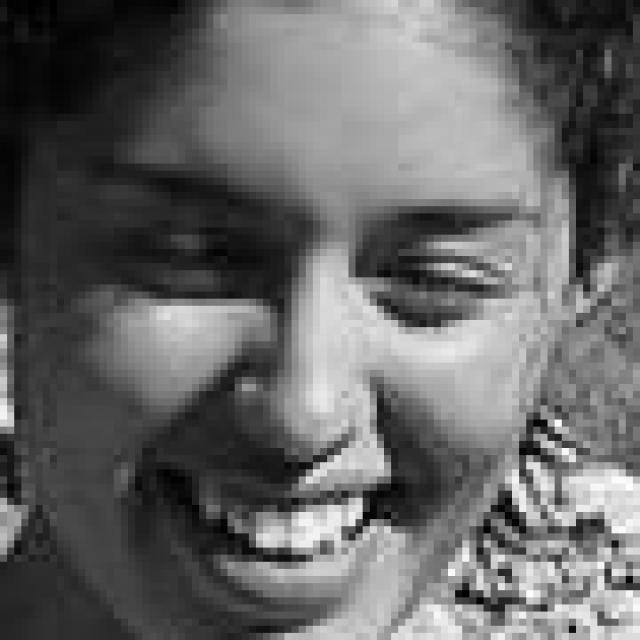real: (12, 46, 582, 634), (80, 168, 524, 336)
